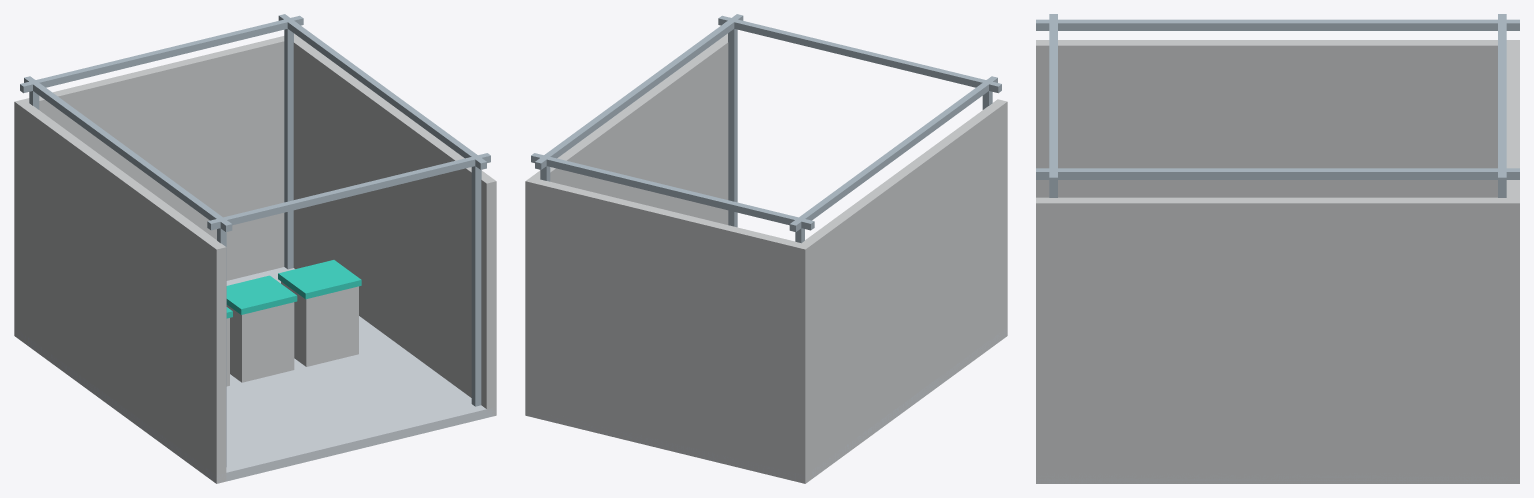
3 renders of one model, left to right at view 1: azimuth 30°, elevation 25°; view 2: azimuth 150°, elevation 25°; view 3: azimuth 270°, elevation 25°, orthographic. The views are drawn at different scales.
Visible parts, largest first — view 1: Exhibition Booth Concept; view 2: Exhibition Booth Concept; view 3: Exhibition Booth Concept.
Part boxes in pixels (x1,y1,x2,y2): Exhibition Booth Concept: [14, 14, 496, 483]; Exhibition Booth Concept: [525, 14, 1007, 483]; Exhibition Booth Concept: [1036, 14, 1519, 483].
Bounding box in the file's own units: 4 × 3.49 × 5.
